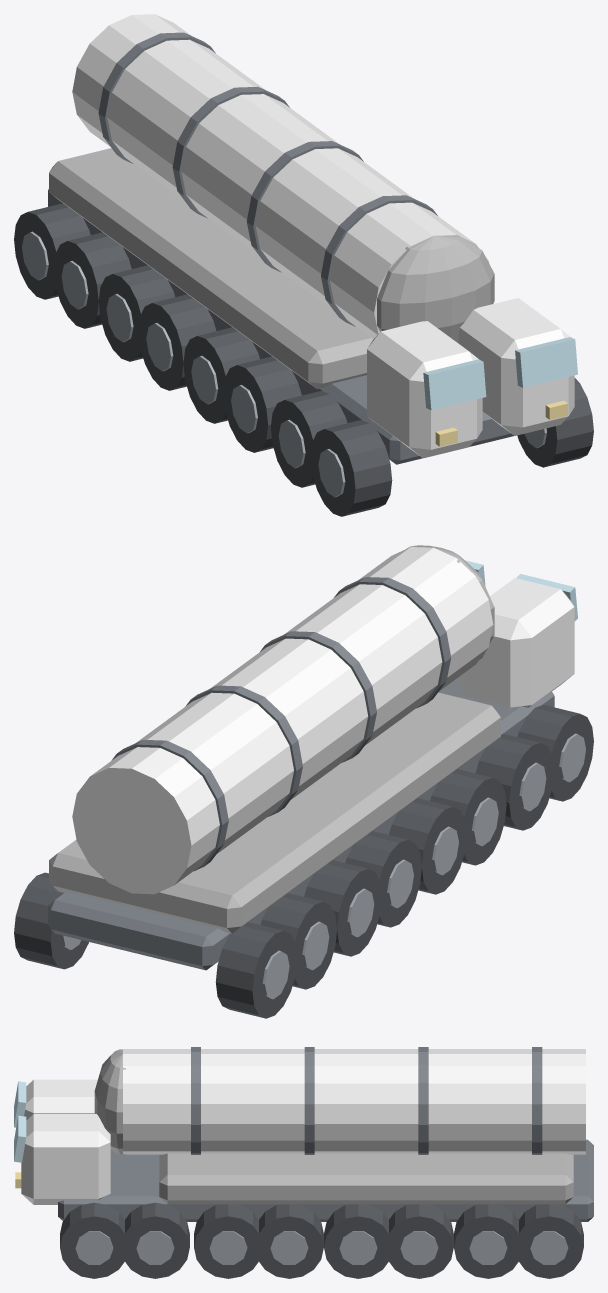
Rendered from launcher.glb.
The picture shows the model from 3 angles, top to bottom: view 1: azimuth 30°, elevation 25°; view 2: azimuth 150°, elevation 25°; view 3: azimuth 270°, elevation 25°; orthographic projection. The views are drawn at different scales.
Parts seen in each view (by area): view 1: main, turret; view 2: main, turret; view 3: main, turret.
Boxes of the visible parts, x1,y1,x2,y2 form: main: [14, 148, 593, 516]; turret: [72, 14, 494, 343]; main: [14, 560, 593, 1018]; turret: [72, 545, 494, 894]; main: [14, 1079, 593, 1278]; turret: [94, 1047, 585, 1154].
Size of the model in its own units: 0.53 by 0.495 by 1.43.
